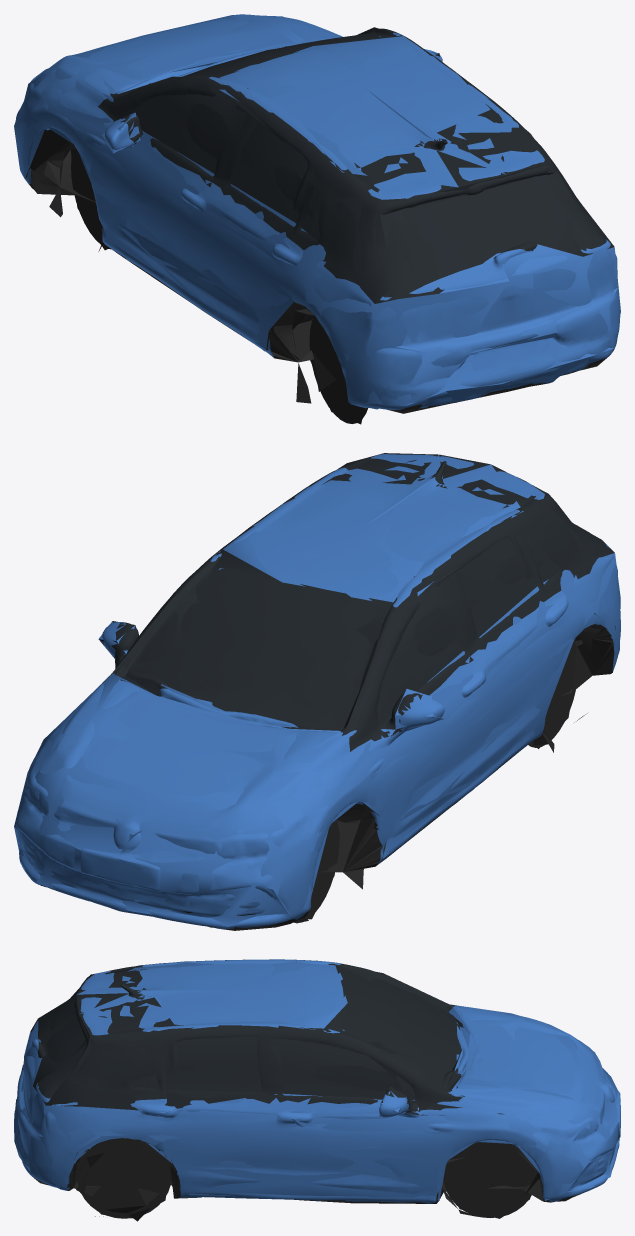
Rendered from volkswagen-golf-gti.glb.
3 views of the same model, one above another, from view 1: azimuth 30°, elevation 25°; view 2: azimuth 150°, elevation 25°; view 3: azimuth 270°, elevation 25° (orthographic). The views are drawn at different scales.
Parts seen in each view (by area): view 1: body, far; view 2: body, far; view 3: body, far.
Part boxes in pixels (x1=…): body: x1=15, y1=14, x2=620, y2=423; far: x1=14, y1=15, x2=620, y2=424; body: x1=15, y1=454, x2=620, y2=930; far: x1=14, y1=453, x2=620, y2=926; body: x1=14, y1=959, x2=620, y2=1221; far: x1=14, y1=960, x2=619, y2=1218.
Size of the model in its own units: 2.1 by 1.55 by 4.31.
